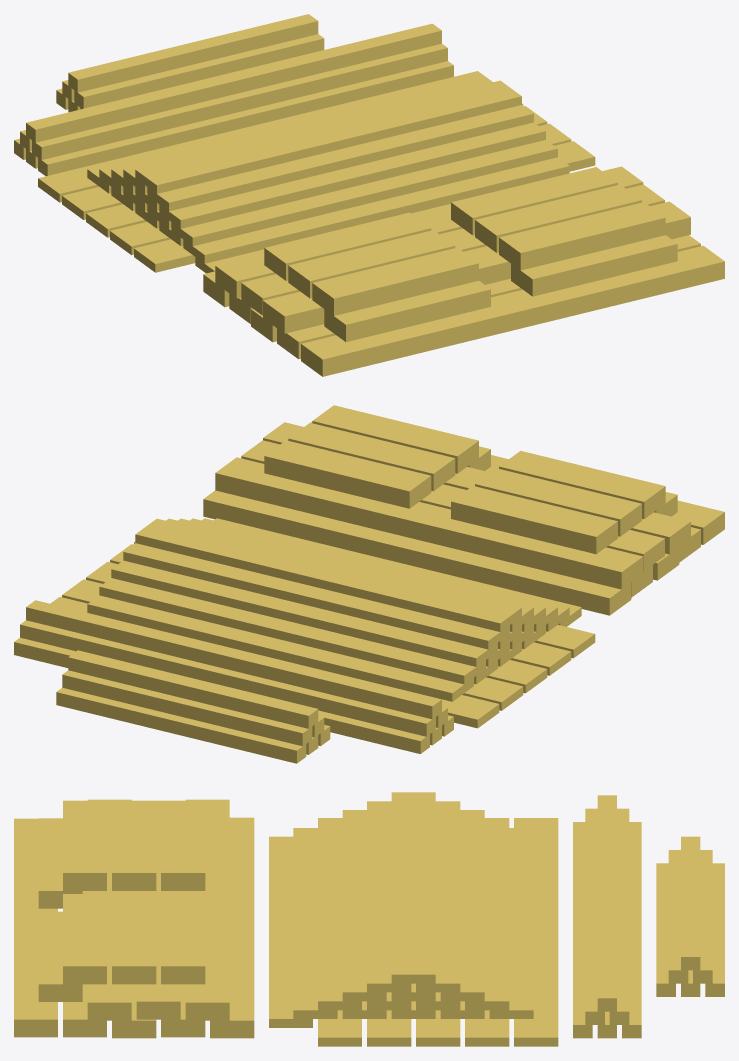
File: bed3.1.glb
3 renders of one model, top to bottom at view 1: azimuth 30°, elevation 25°; view 2: azimuth 150°, elevation 25°; view 3: azimuth 270°, elevation 25°, orthographic. The views are drawn at different scales.
Parts seen in each view (by area): view 1: girder2.2, beam2.7, guide2.3, guide1.2, beam1.3, beam1.5, beam1.4, beam2.8, guide1.1, leg2.1, leg2.2, pillar1.3 (+21 smaller); view 2: girder1.3, girder1.4, beam2.7, guide2.3, beam2.1, beam1.7, beam2.5, beam2.6, guide2.2, leg2.4, leg2.3, pillar1.3 (+20 smaller); view 3: beam2.7, board2.1, girder1.3, girder2.2, girder1.4, beam2.5, beam2.6, beam1.4, beam1.7, beam1.5, beam1.3, beam1.8 (+35 smaller).
Part boxes in pixels (x1,y1,x2,y2): girder2.2: (301, 245, 724, 376); beam2.7: (135, 80, 521, 193); guide2.3: (26, 23, 441, 142); guide1.2: (32, 43, 447, 159); beam1.3: (171, 140, 557, 246); beam1.5: (147, 105, 533, 211); beam1.4: (159, 122, 545, 228); beam2.8: (183, 157, 569, 263); guide1.1: (38, 61, 453, 176); leg2.1: (312, 247, 478, 315); leg2.2: (499, 202, 665, 270); pillar1.3: (68, 14, 318, 92); girder1.3: (215, 457, 643, 589); girder1.4: (203, 490, 631, 615); beam2.7: (135, 518, 521, 631); guide2.3: (26, 600, 441, 719); beam2.1: (87, 595, 473, 701); beam1.7: (111, 560, 497, 666); beam2.5: (123, 543, 509, 649); beam2.6: (99, 578, 485, 684); guide2.2: (20, 620, 435, 736); leg2.4: (264, 440, 431, 508); leg2.3: (451, 486, 617, 554); pillar1.3: (68, 650, 318, 728); beam2.7: (391, 792, 435, 983); board2.1: (514, 818, 558, 1046); girder1.3: (185, 799, 229, 1020); girder2.2: (14, 818, 57, 1037); girder1.4: (210, 817, 254, 1038); beam2.5: (416, 801, 460, 992); beam2.6: (465, 819, 509, 1010); beam1.4: (342, 810, 386, 1001); beam1.7: (440, 810, 484, 1001); beam1.5: (367, 801, 411, 992); beam1.3: (318, 819, 361, 1010); beam1.8: (269, 836, 312, 1027).
Bounding box in the file's own units: 1.06 × 0.12 × 1.45.
